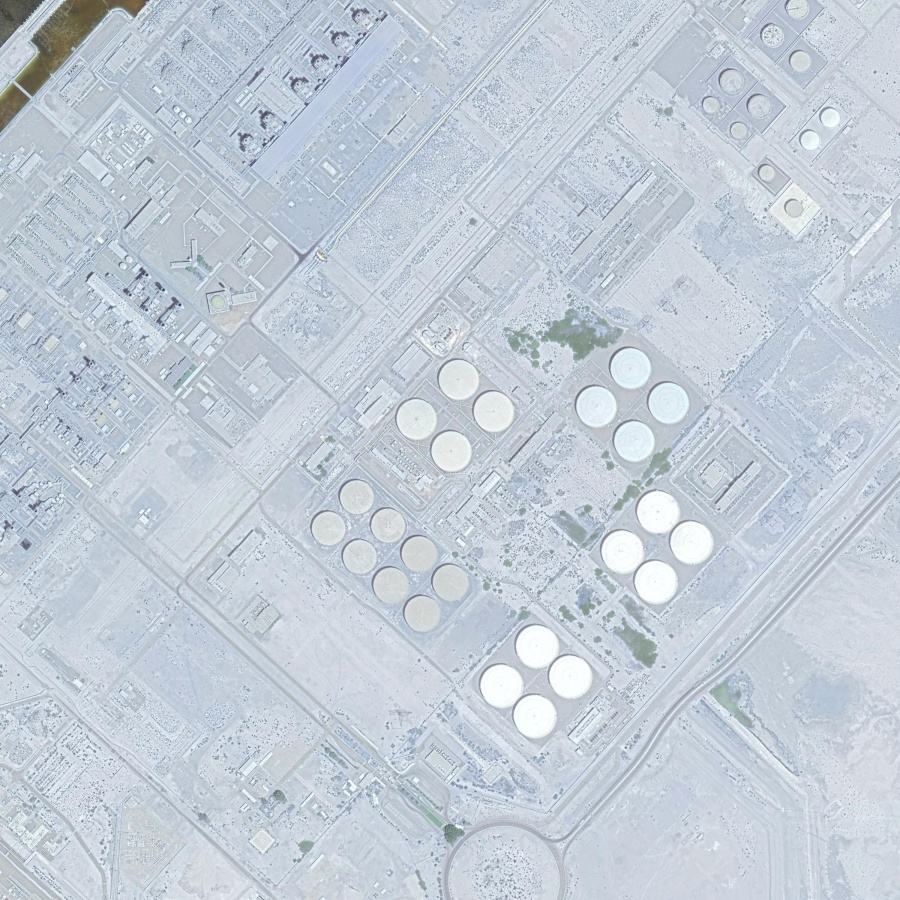PowerPlant: (301, 298, 751, 758)
